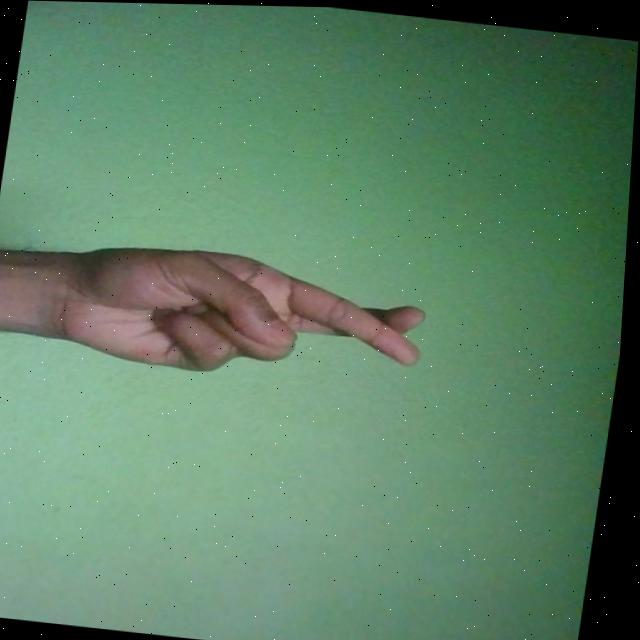Good Luck: (50, 235, 436, 395)
